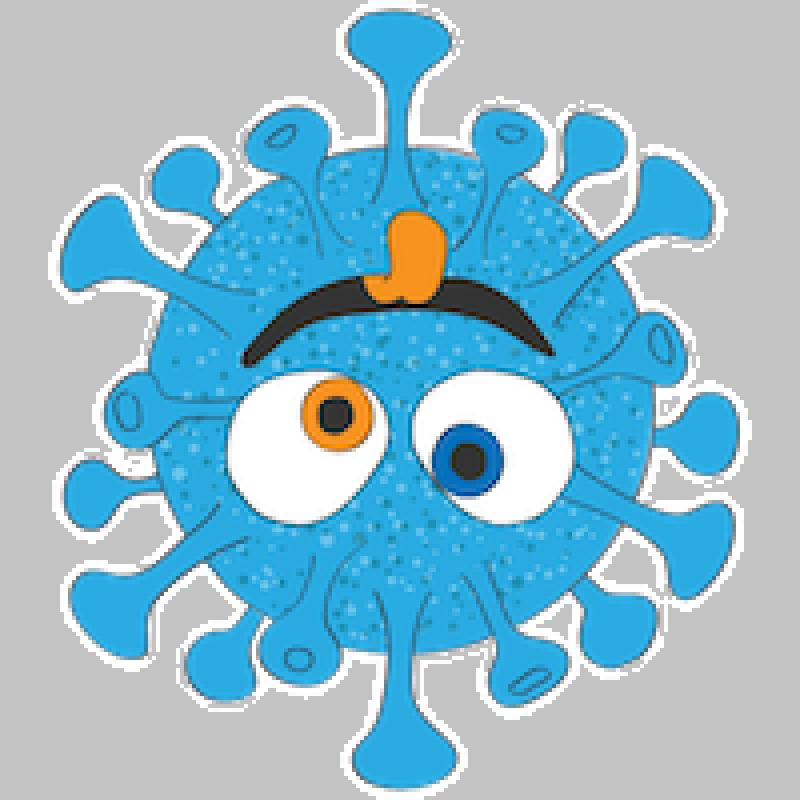corona3: (8, 0, 796, 796)
